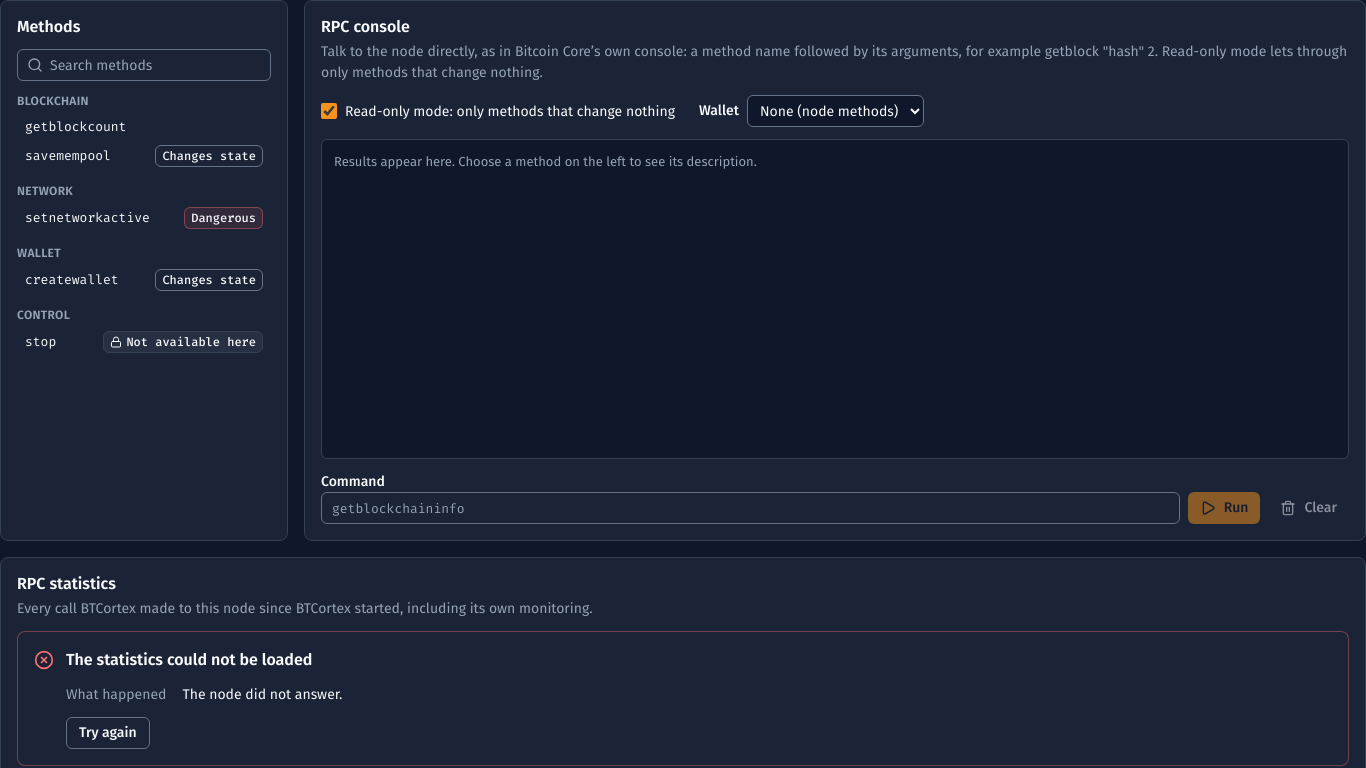
it: RPC console › says when the help or the statistics cannot be loaded, instead of loading for ever
Expected: the heading "The statistics could not be loaded" is shown, [66, 650, 312, 669]
Click the button "getblockcount".
click(144, 127)  # box [17, 113, 271, 140]
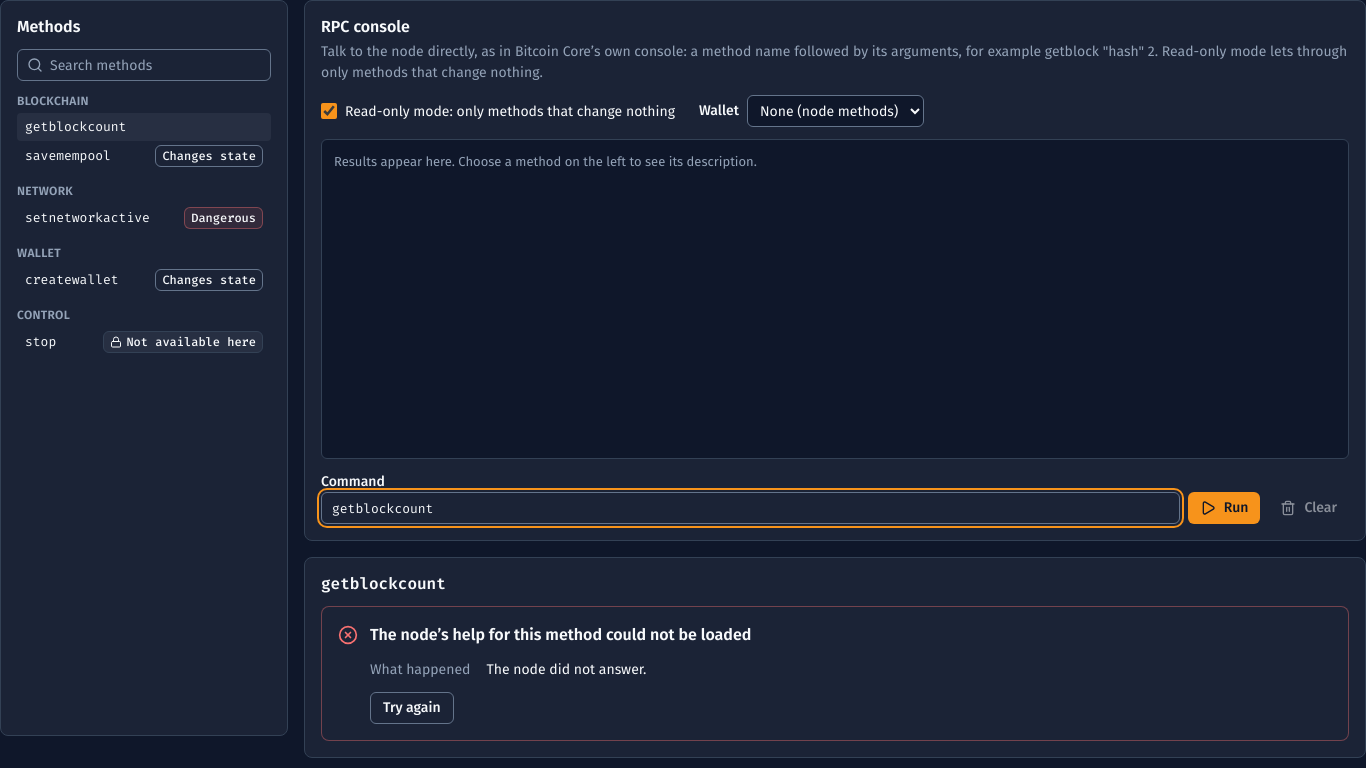
Result: the heading "The node’s help for this method could not be loaded" is shown at [370, 625, 751, 644]
